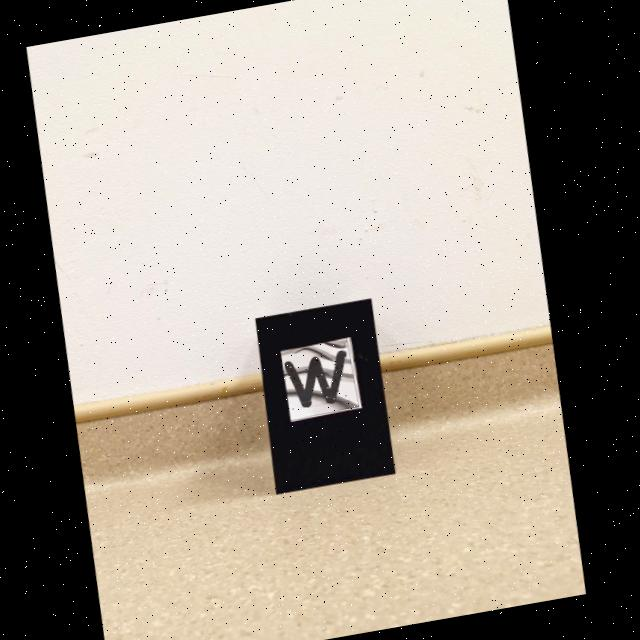W: (288, 350, 349, 407)
